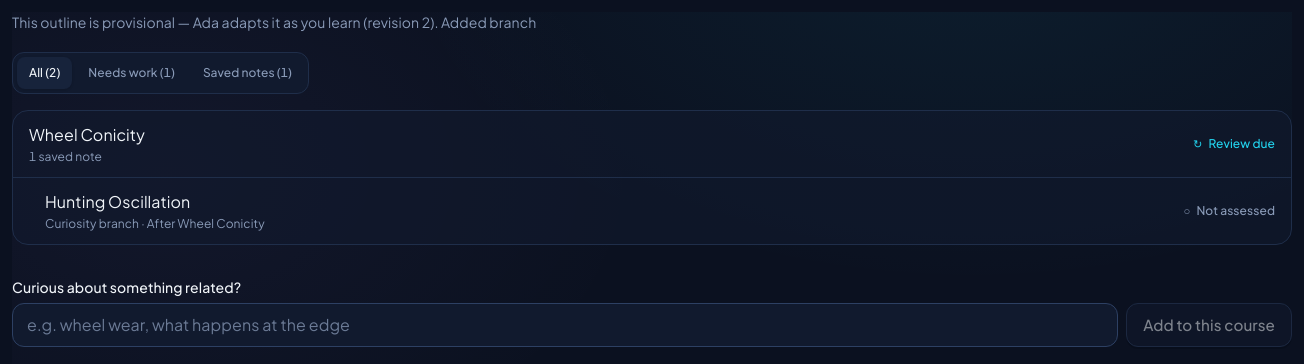
Test case: OutlineList, ReviewQueue & Mid-Lesson Branching › filters outline concepts, shows unlock/note metadata, drops unsafe note links, and routes review_due concepts to focused review
Later steps or results of the test are not shown.
Expected: the text "1 saved note" is shown, 29,149 -> 102,164
Expected: the text "Curiosity branch · After Wheel Conicity" is shown, 45,216 -> 265,231
Click the button "Needs work (1)": (132, 73) 76,57 -> 187,89
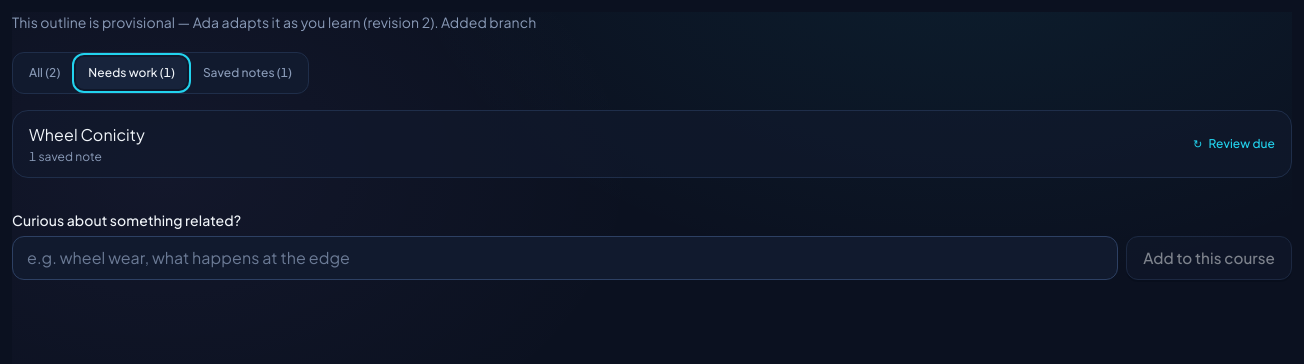
Expected: the text "Wheel Conicity" is shown, 29,124 -> 145,145
Result: the button "Hunting Oscillation" is gone
